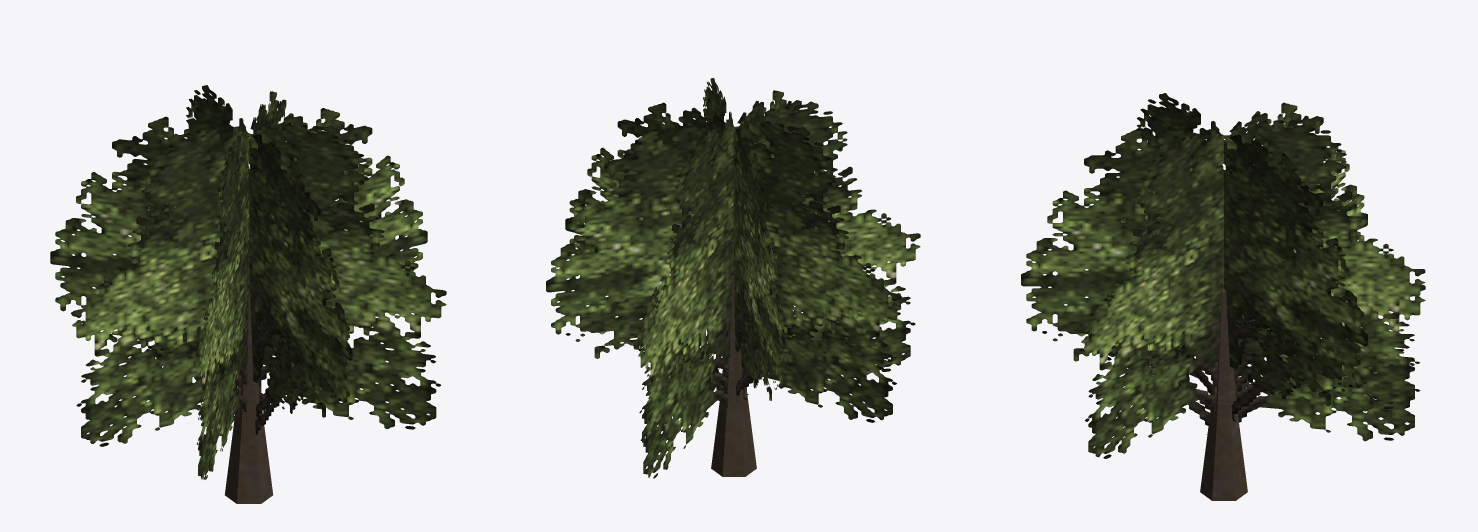
The model's file is tree22.glb.
3 views of the same model, side by side, from view 1: azimuth 30°, elevation 25°; view 2: azimuth 150°, elevation 25°; view 3: azimuth 270°, elevation 25° (orthographic). The views are drawn at different scales.
Visible parts, largest first — view 1: tree22; view 2: tree22; view 3: tree22.
Boxes of the visible parts, box(x1,y1,x2,y2) form: tree22: box(50, 85, 446, 503); tree22: box(546, 78, 920, 478); tree22: box(1021, 93, 1425, 500).
Size of the model in its own units: 14.4 by 12.5 by 14.4.
Materials: 1 (1 with a texture image).
